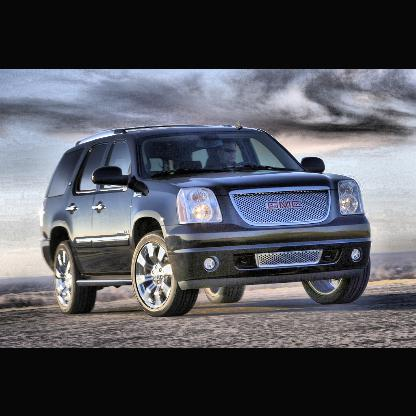GMC Yukon Hybrid SUV 2012: (38, 119, 374, 320)
